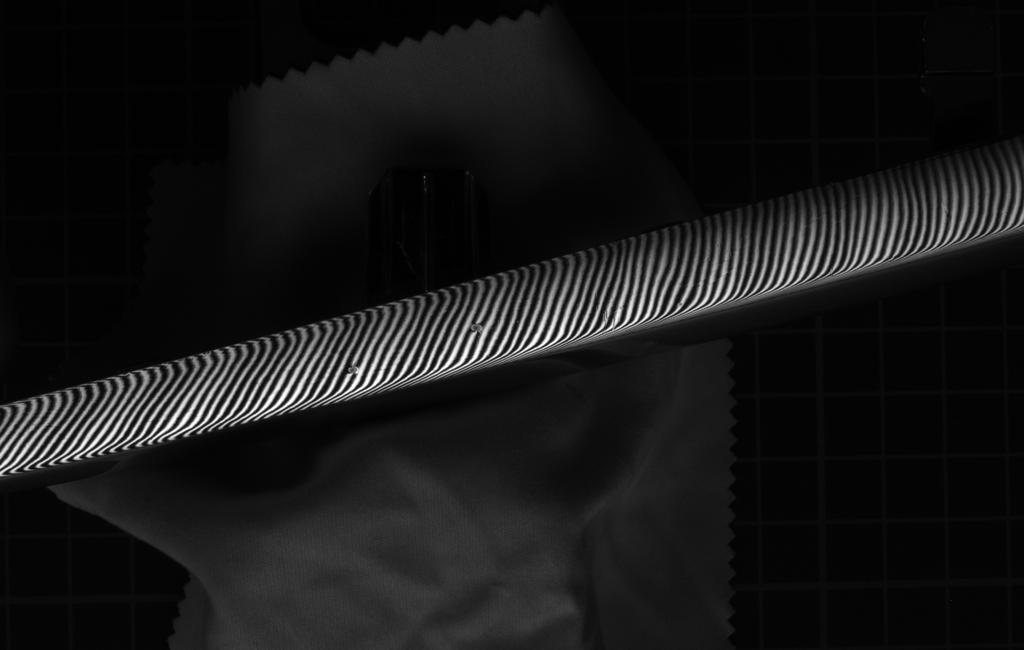Pierced: (340, 361, 367, 379), (467, 320, 489, 338)
